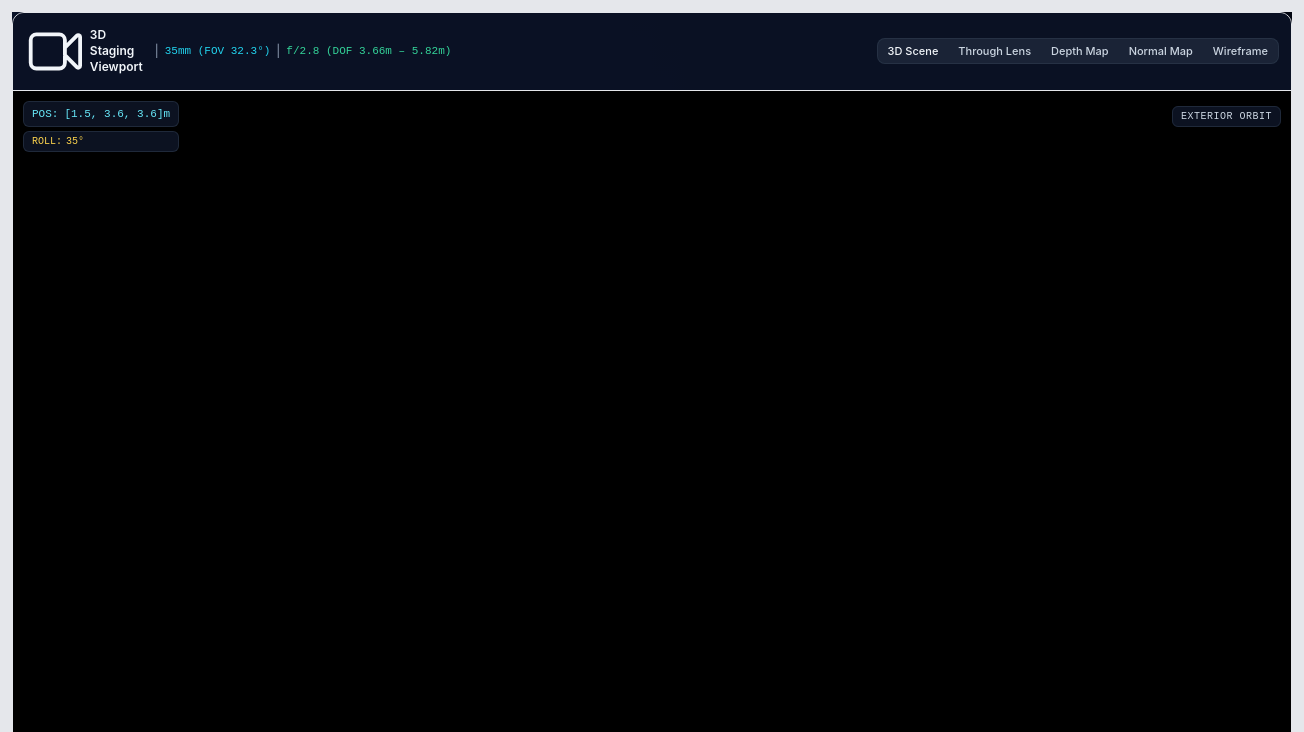
Test case: SpatialCamera3dViewport GPU lifecycle › matches captured camera orientation during a rolled FPV trajectory without accumulating roll
Click the button "Through Lens" at (995, 51), box [950, 41, 1039, 61]
(page scrolled)
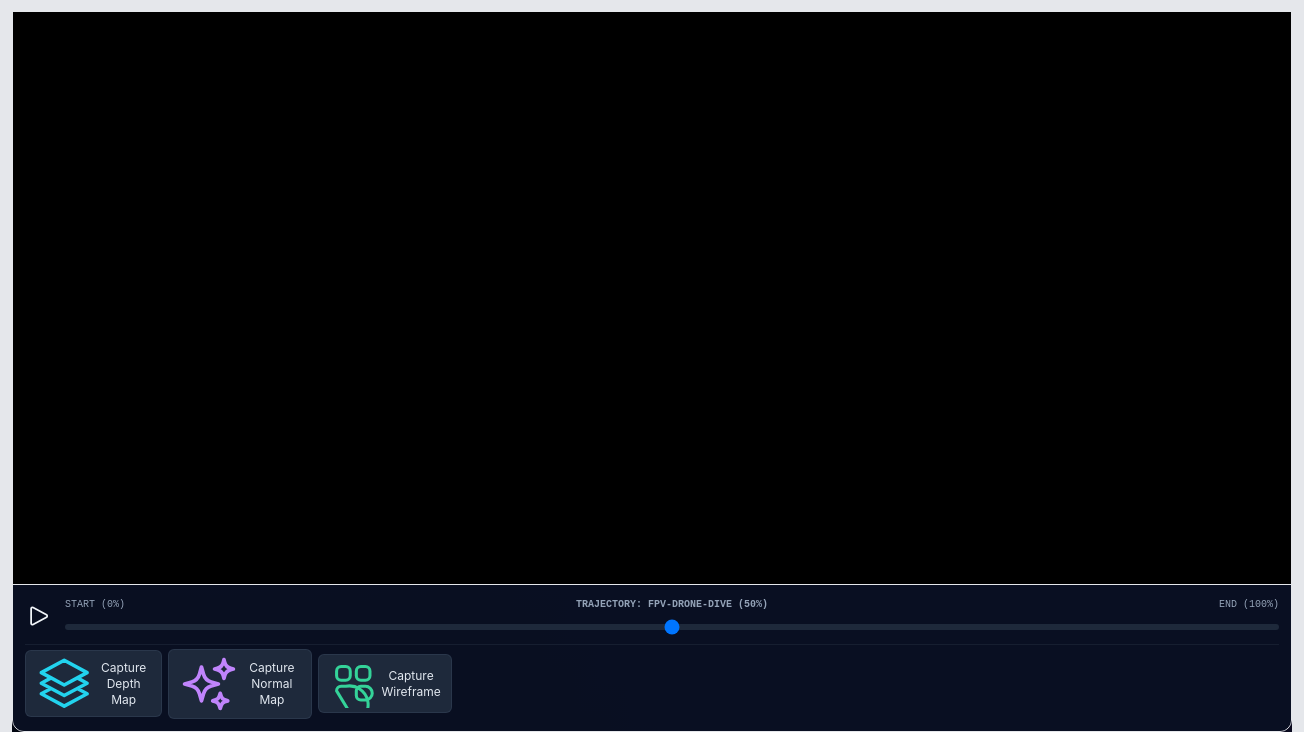
Set the slider to "0.75" at (972, 627), box [65, 624, 1279, 630]
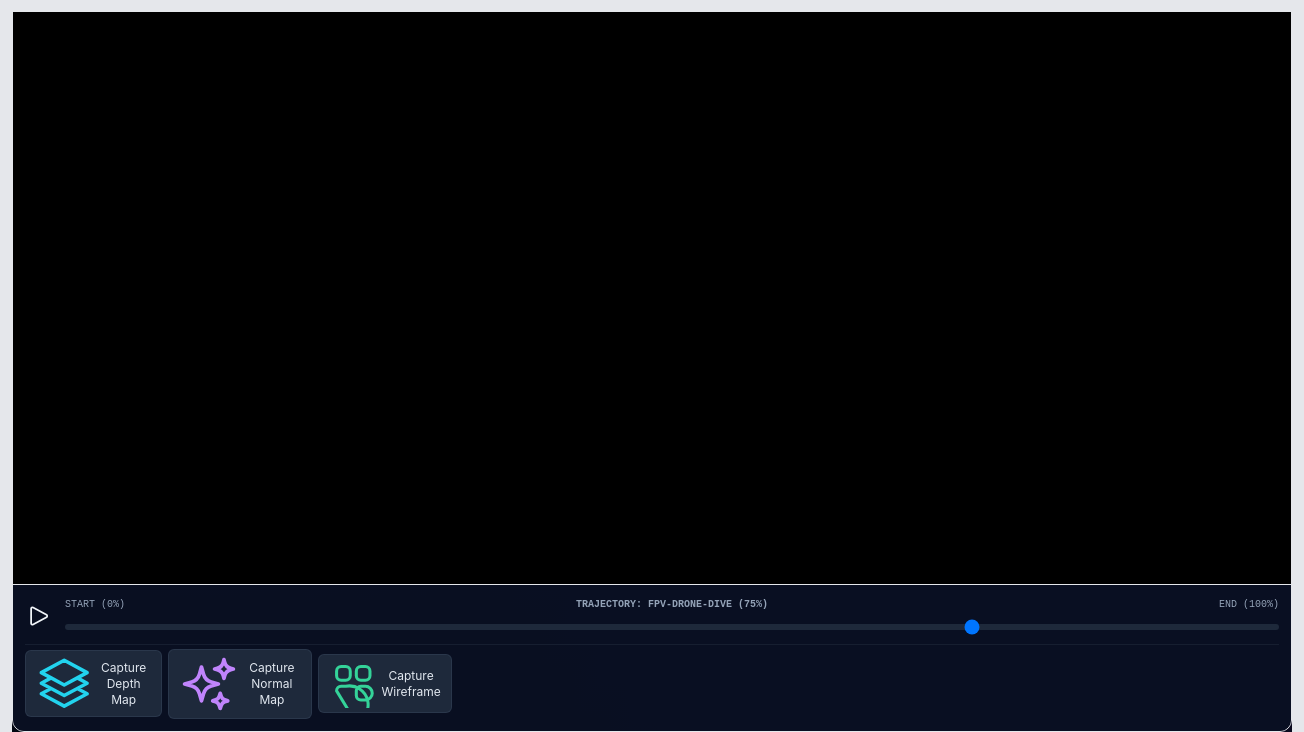
Set the slider to "0.5" at (672, 627), box [65, 624, 1279, 630]
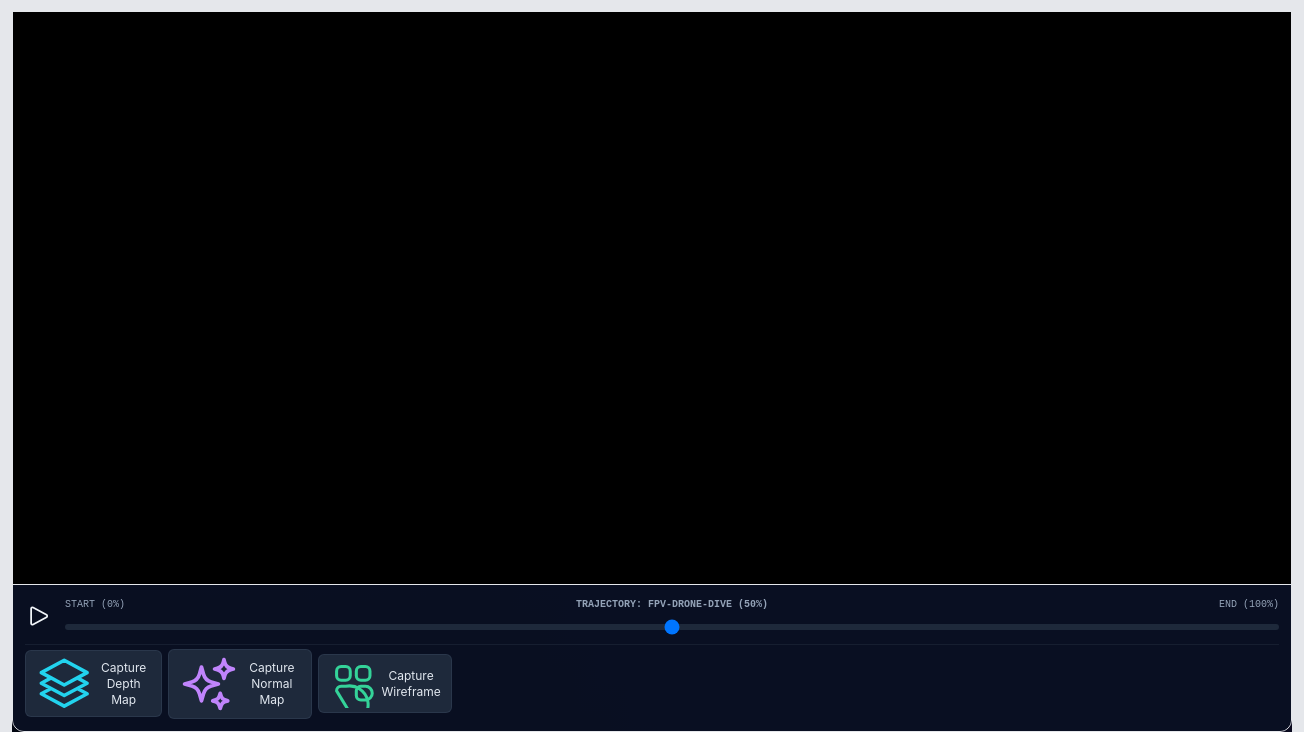
Click the button "Capture Depth Map" at (93, 684), box [25, 650, 162, 717]
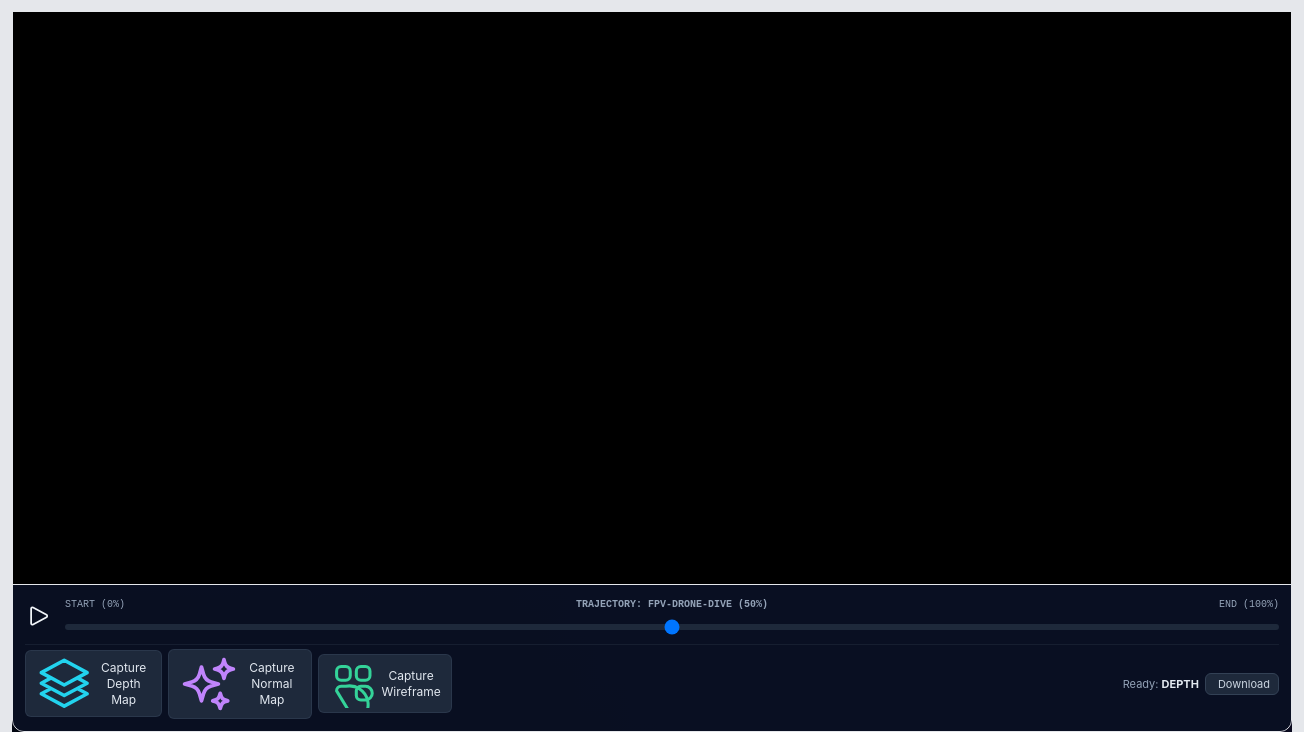
expect the button "Download" is shown: met, box [1205, 673, 1279, 695]
